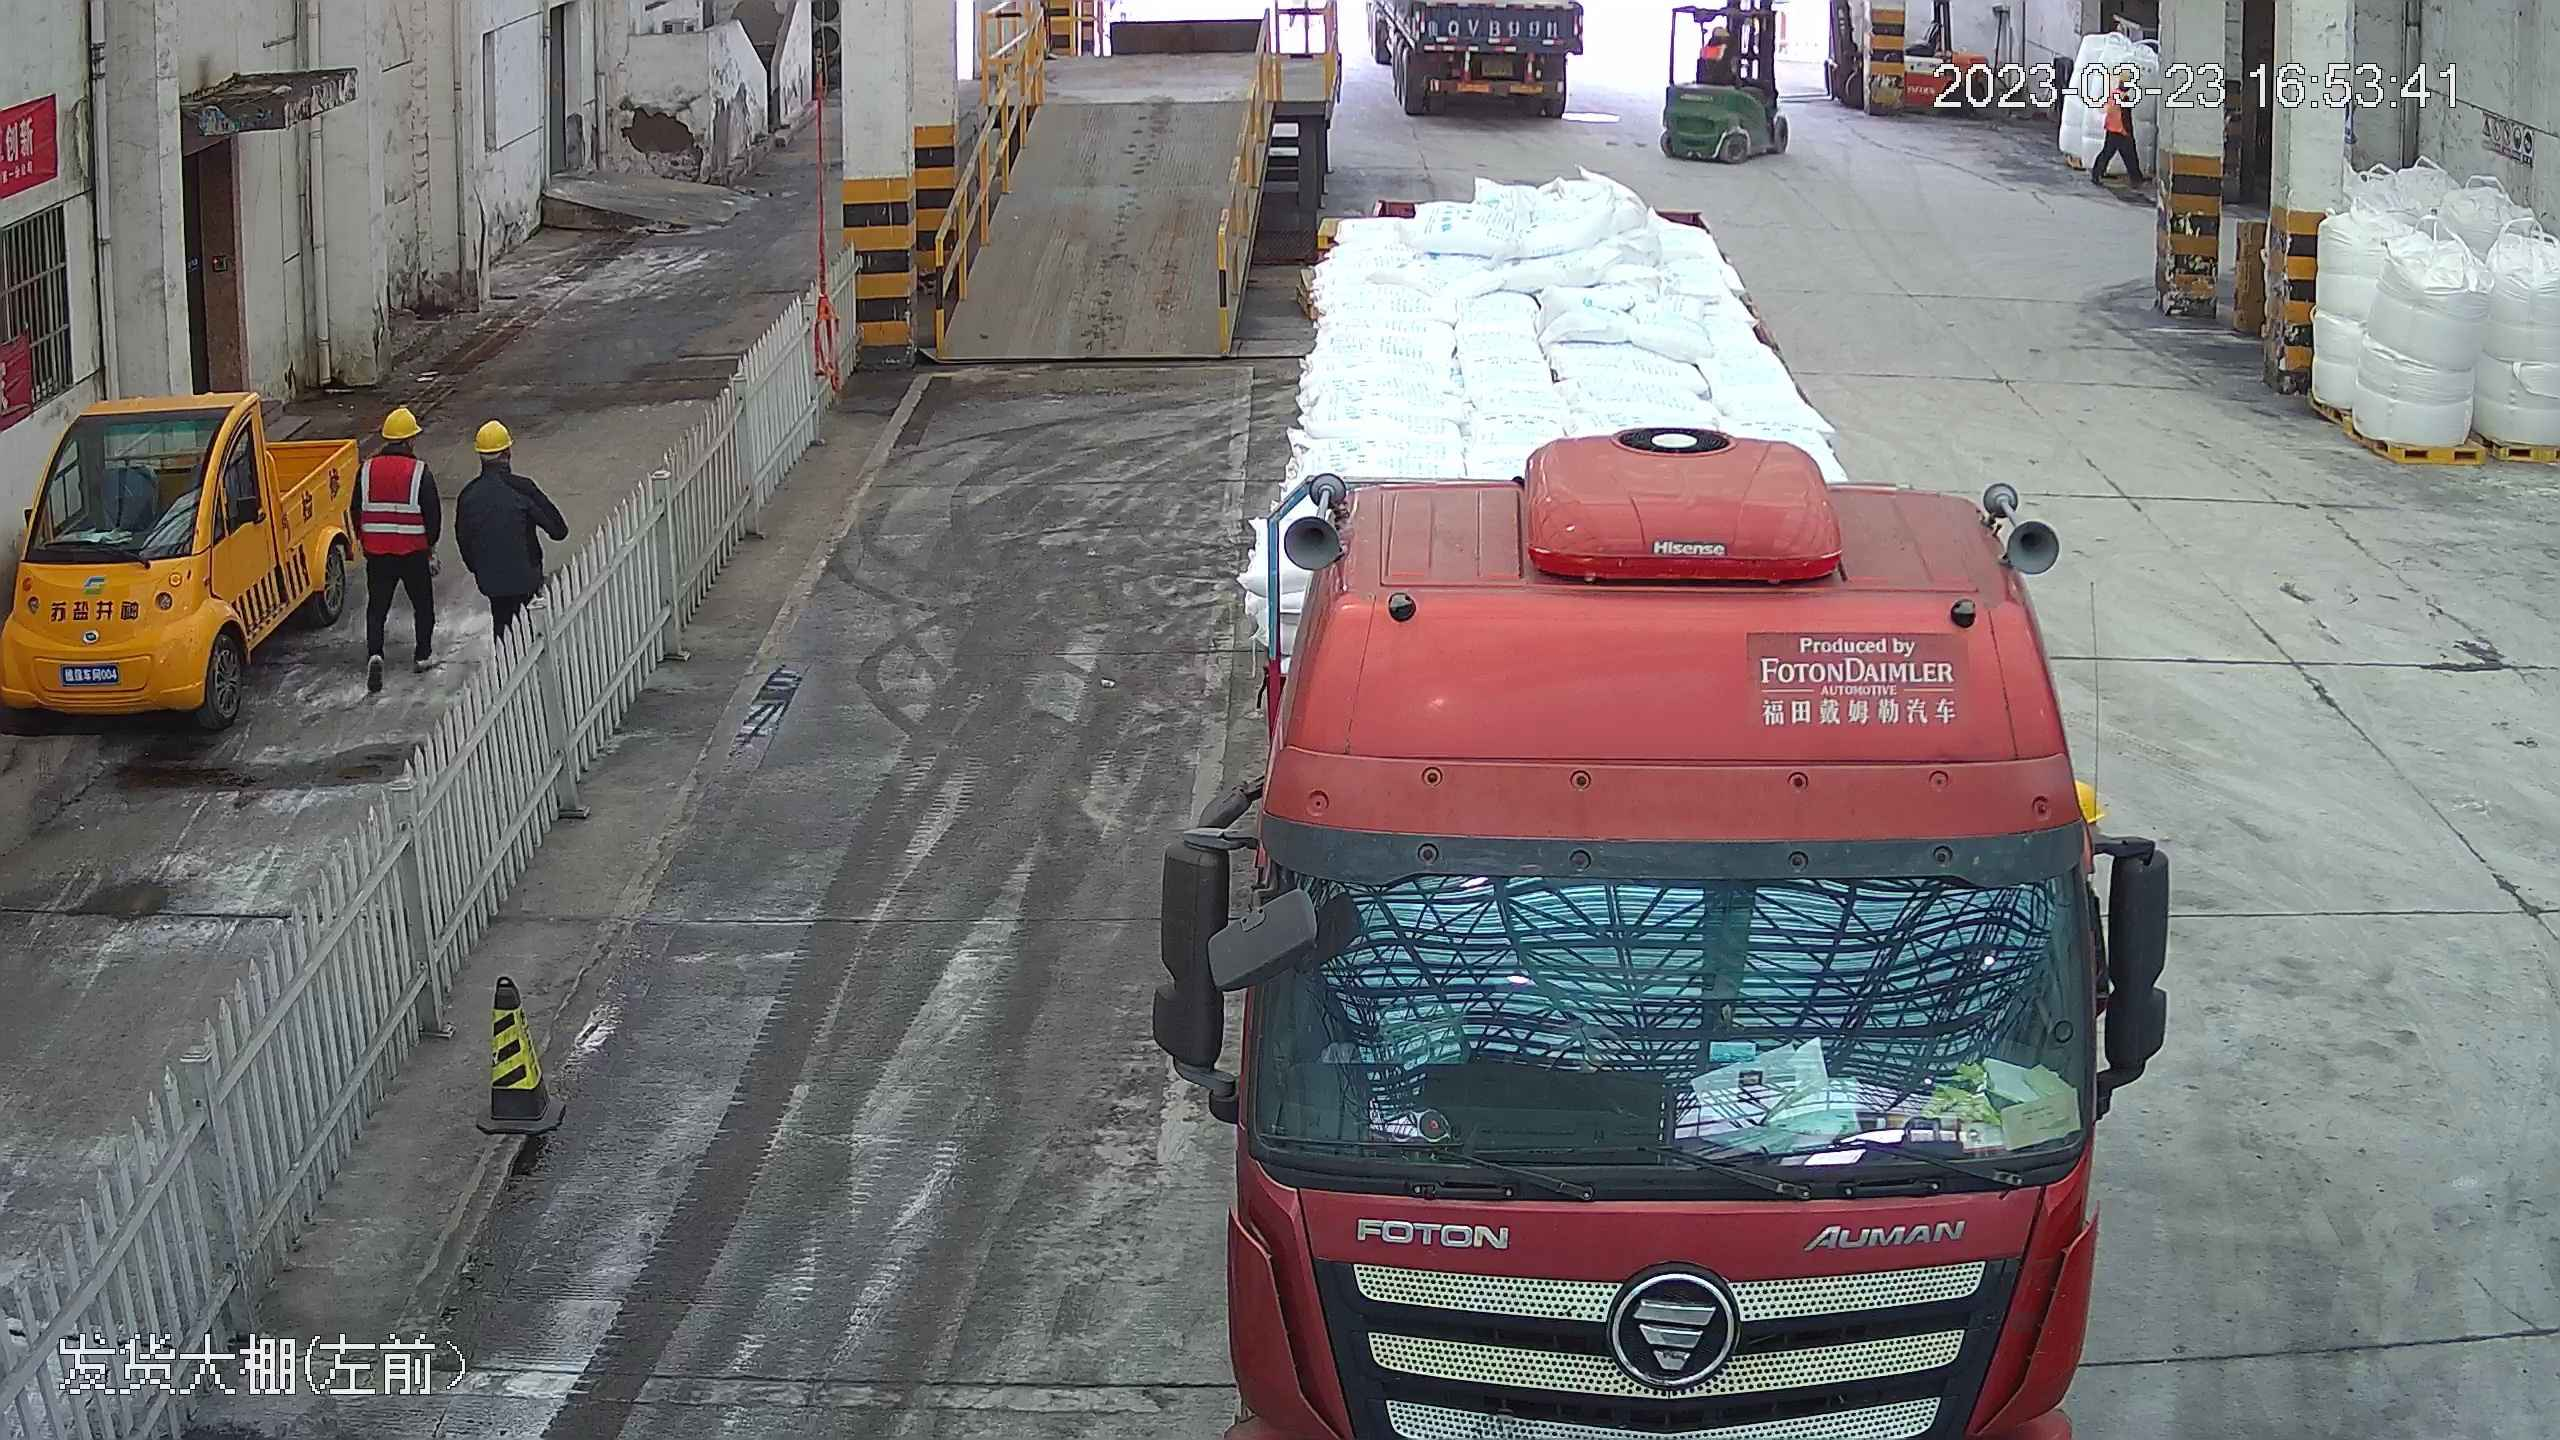head: (348, 403, 446, 664), (457, 418, 545, 505), (357, 405, 431, 494)
helmet: (379, 404, 426, 443), (472, 416, 516, 454)
people: (450, 411, 567, 652), (349, 402, 449, 671), (2092, 65, 2148, 187)
truck: (1174, 55, 2146, 1440)
